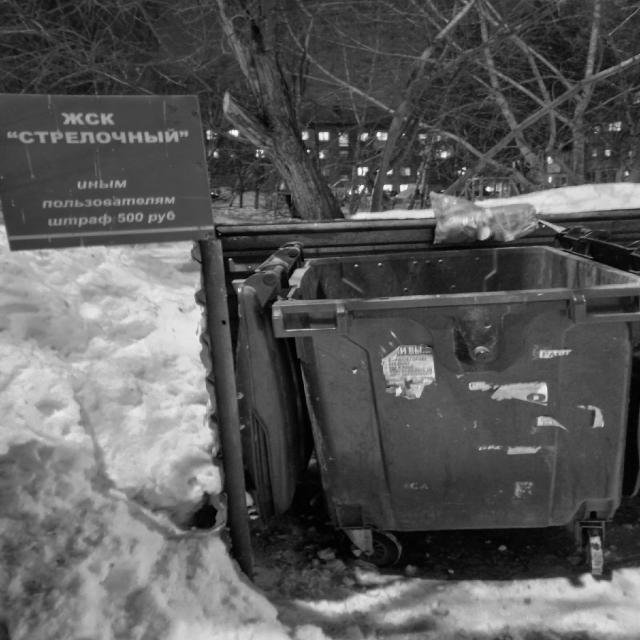Trashcan: (217, 198, 640, 591)
